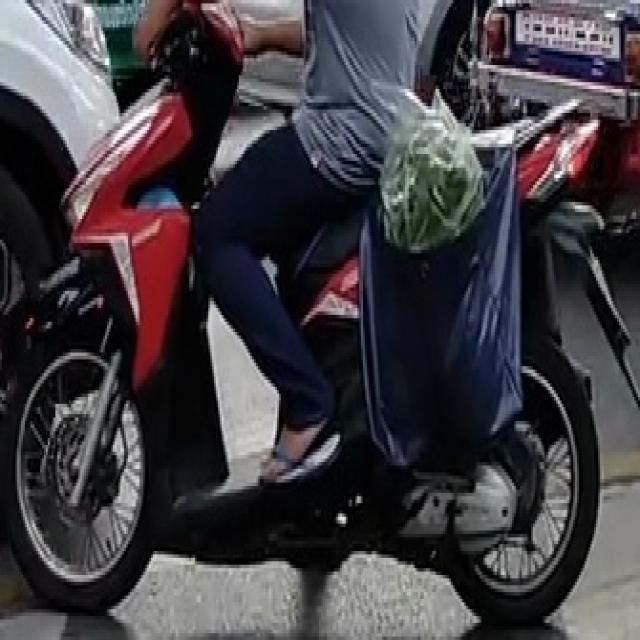door: (1, 0, 634, 619)
tyre: (445, 328, 600, 623), (8, 346, 152, 609)
